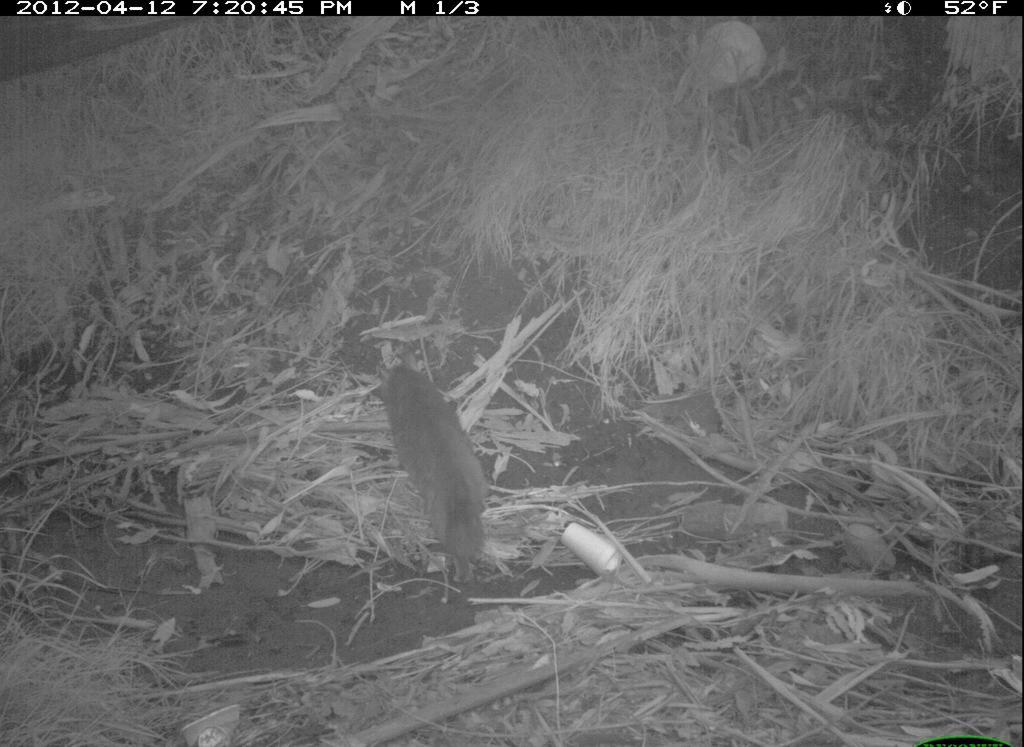cat: (372, 344, 500, 591)
